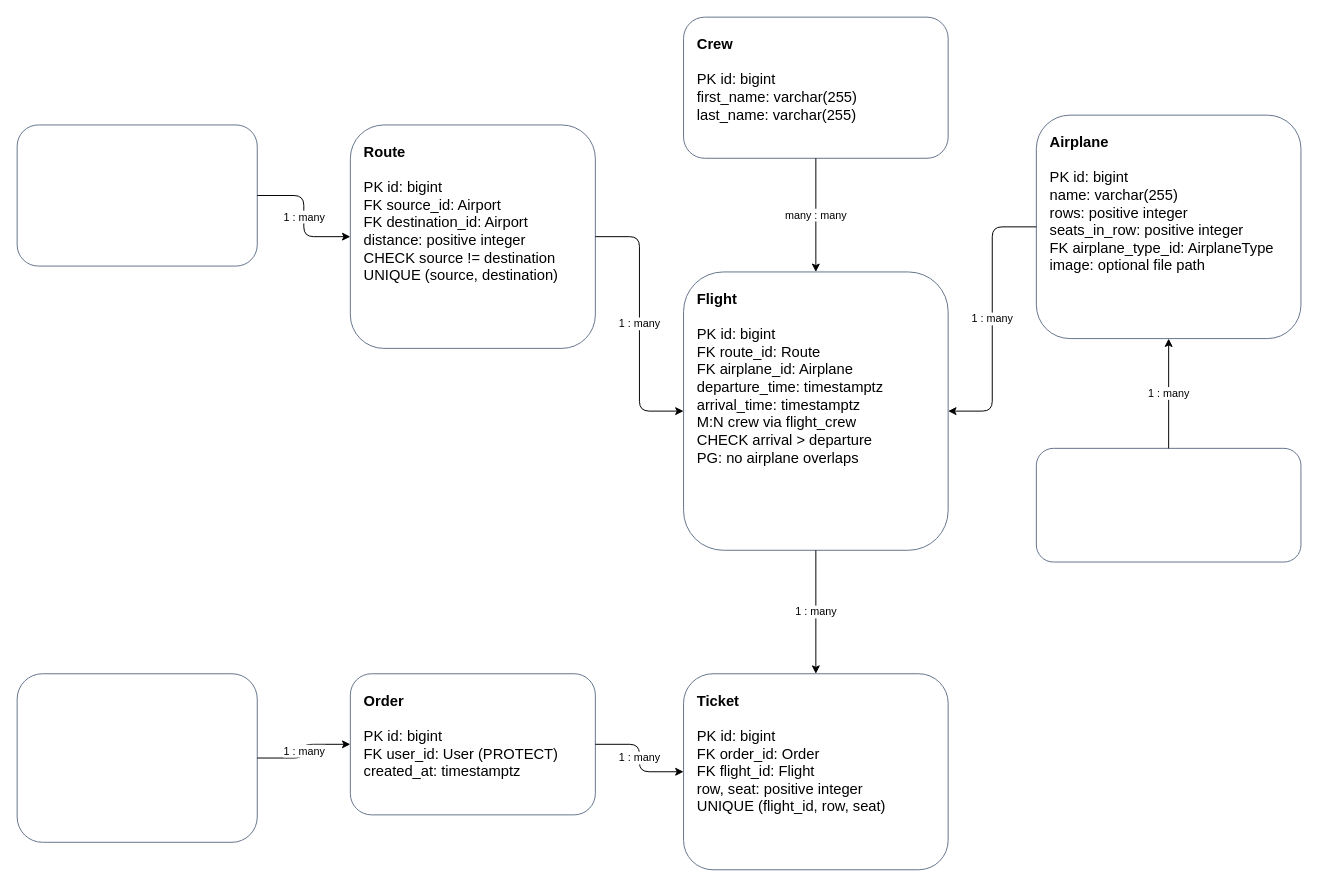
The diagram is 1318 pixels wide and 887 high, and some of its shapes have lost their labels. The centre of each missing label's shape, as x and y in pixels:
"AirplaneType PK id: bigint name: unique varchar(255)" belongs at (x=1168, y=504).
"Airport PK id: bigint name: unique varchar(255) closest_big_city: varchar(255)" belongs at (x=136, y=195).
"User PK id: bigint email: unique email password: hashed is_staff, is_active, ..." belongs at (x=136, y=757).
